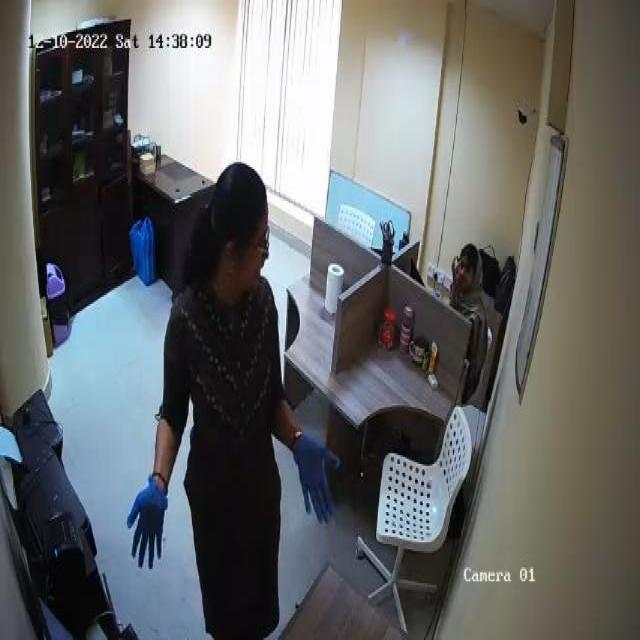gloved_hand: (291, 427, 342, 530), (125, 478, 170, 571)
